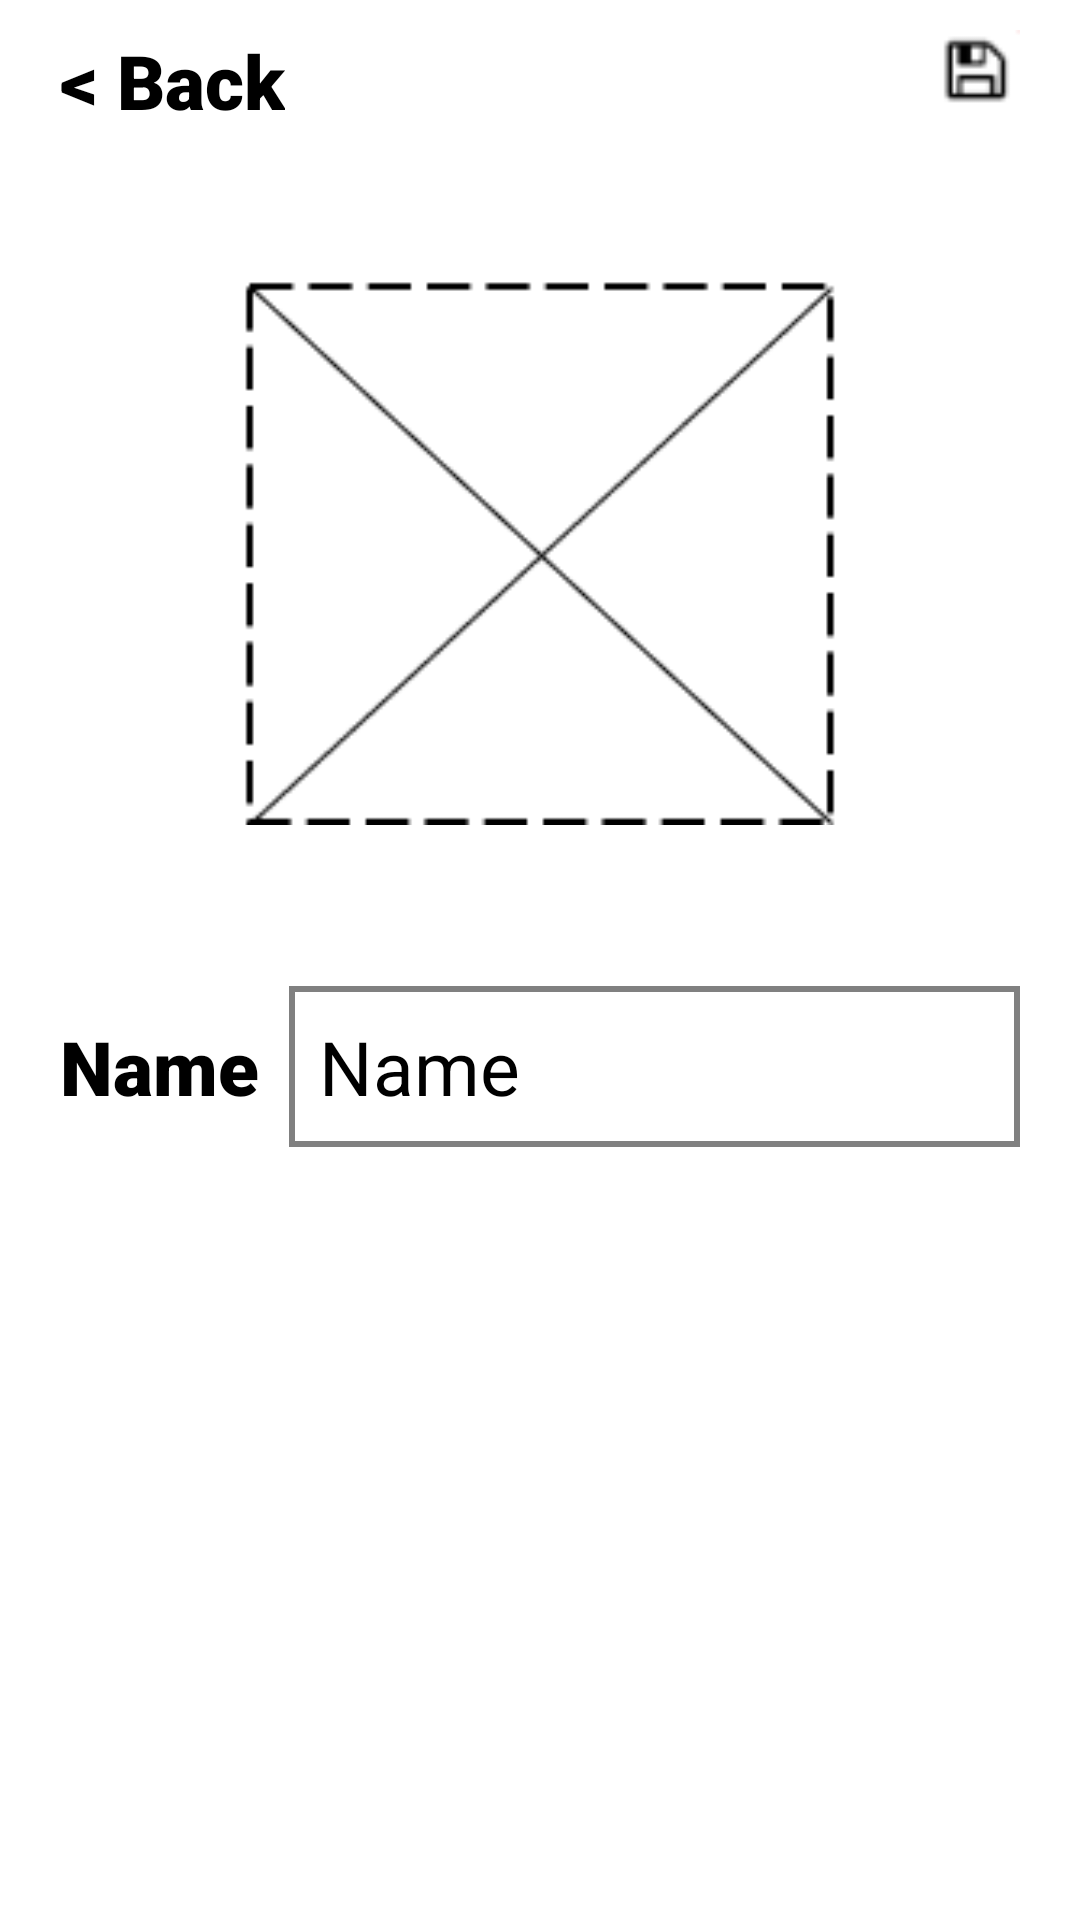

Icons on this 1080×1920 Android screen, each with its box as {"left": x1, "top": y1, "right": x2, "bottom": y2}:
save: {"left": 944, "top": 38, "right": 1009, "bottom": 102}
